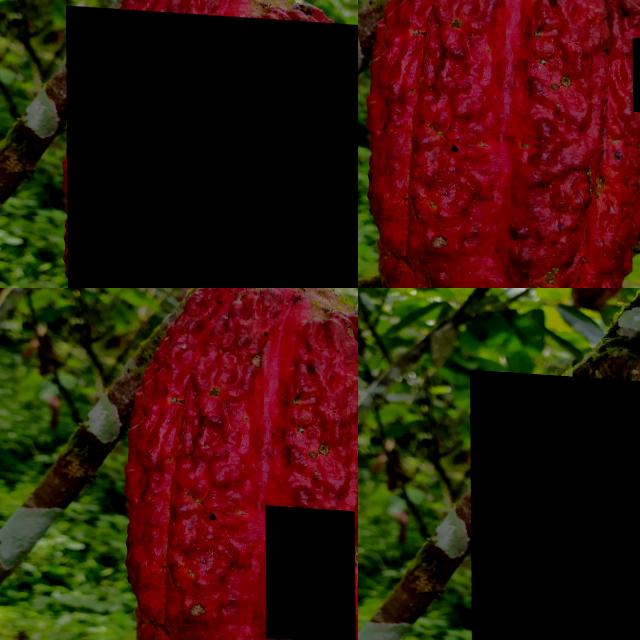Sana: (66, 3, 358, 288), (470, 367, 640, 640), (266, 500, 354, 637), (358, 23, 418, 143), (185, 288, 236, 359), (584, 185, 623, 240), (0, 288, 23, 364)
